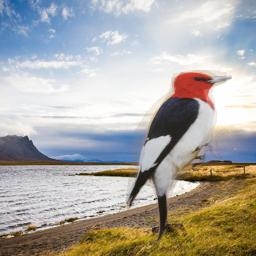Woodpecker: (125, 70, 232, 244)
